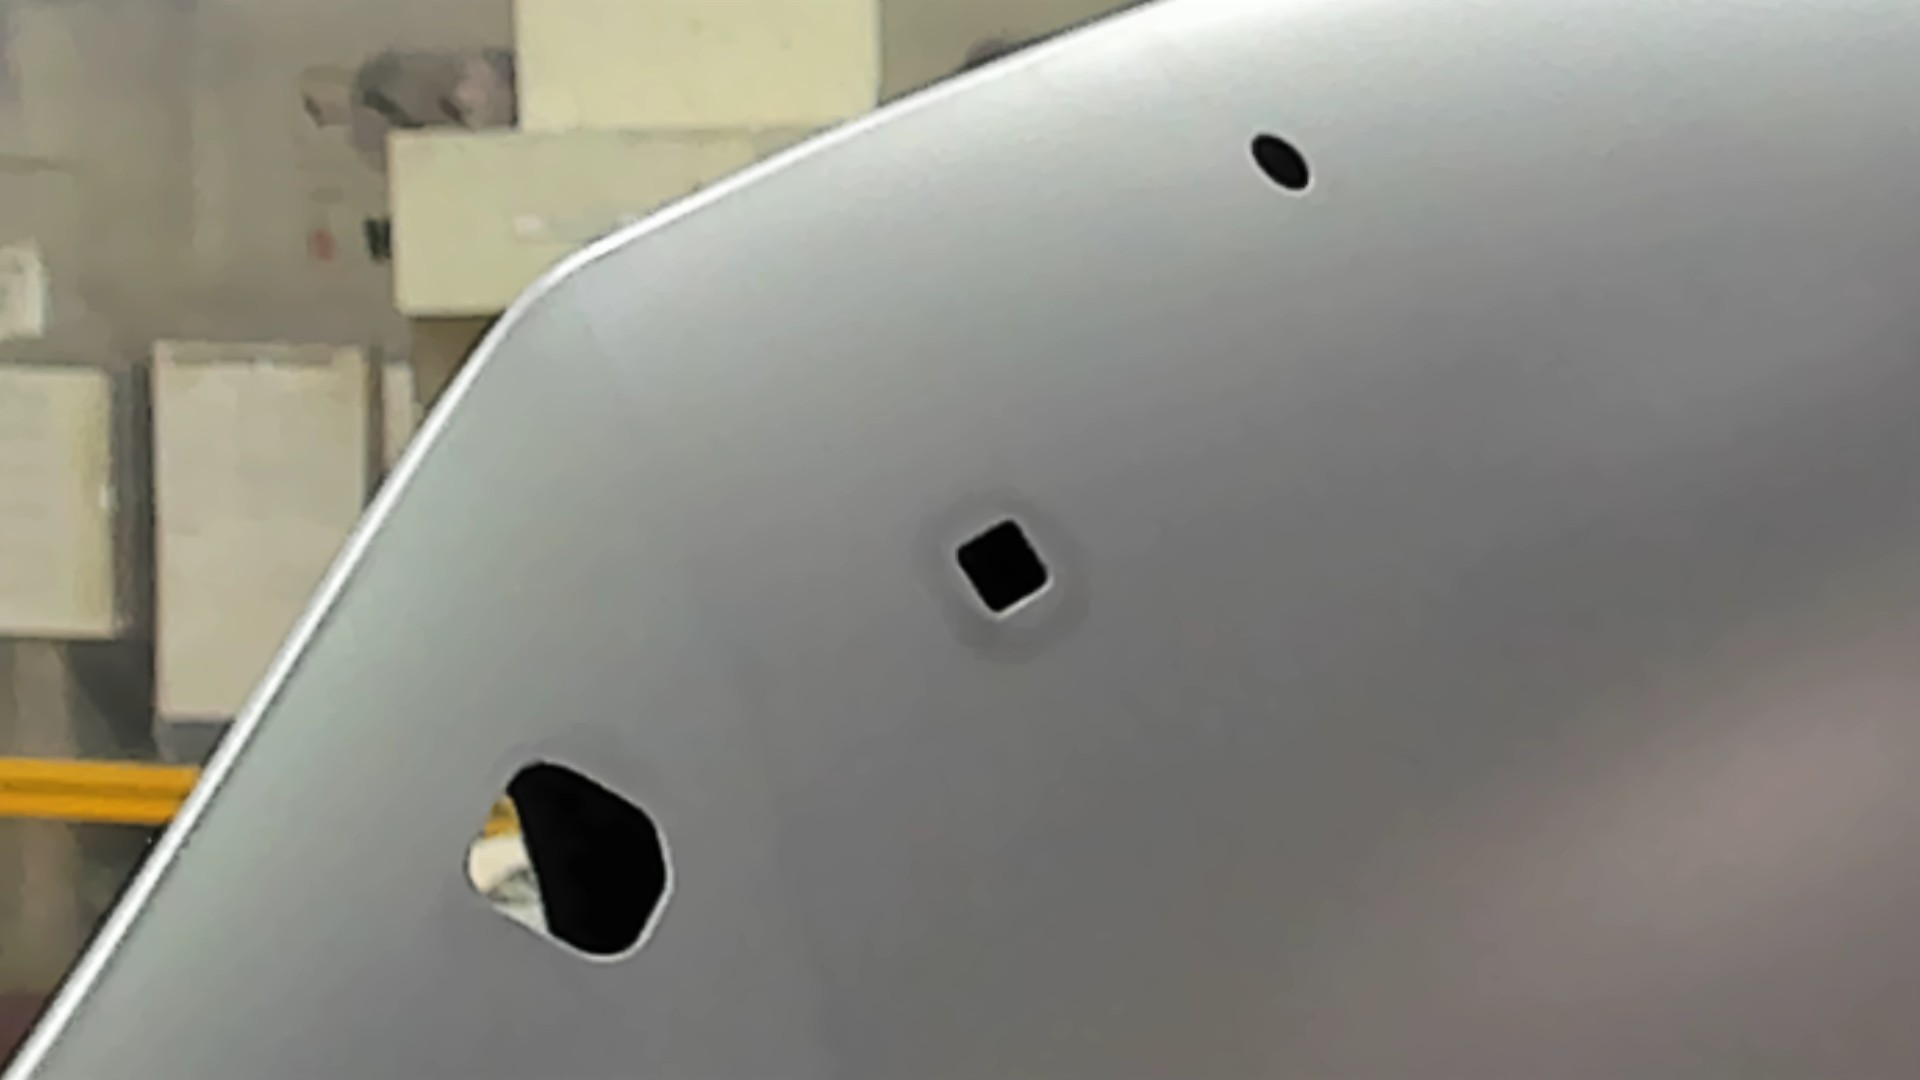chico: (1247, 128, 1313, 196)
grande: (460, 754, 682, 968)
mediano: (952, 514, 1055, 620)
